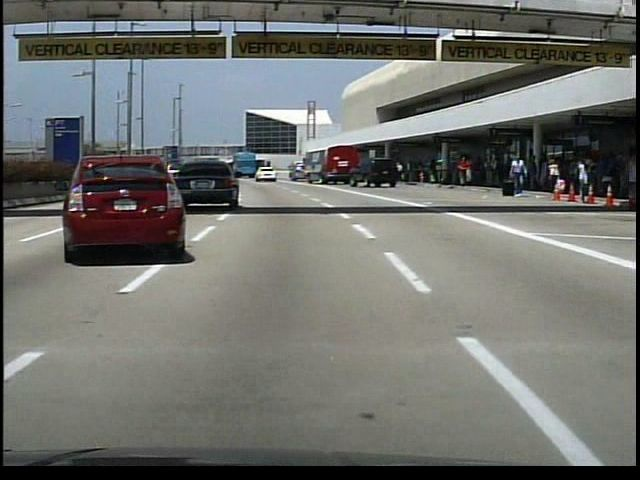person: (505, 153, 527, 198), (455, 156, 472, 186), (394, 162, 406, 185)
